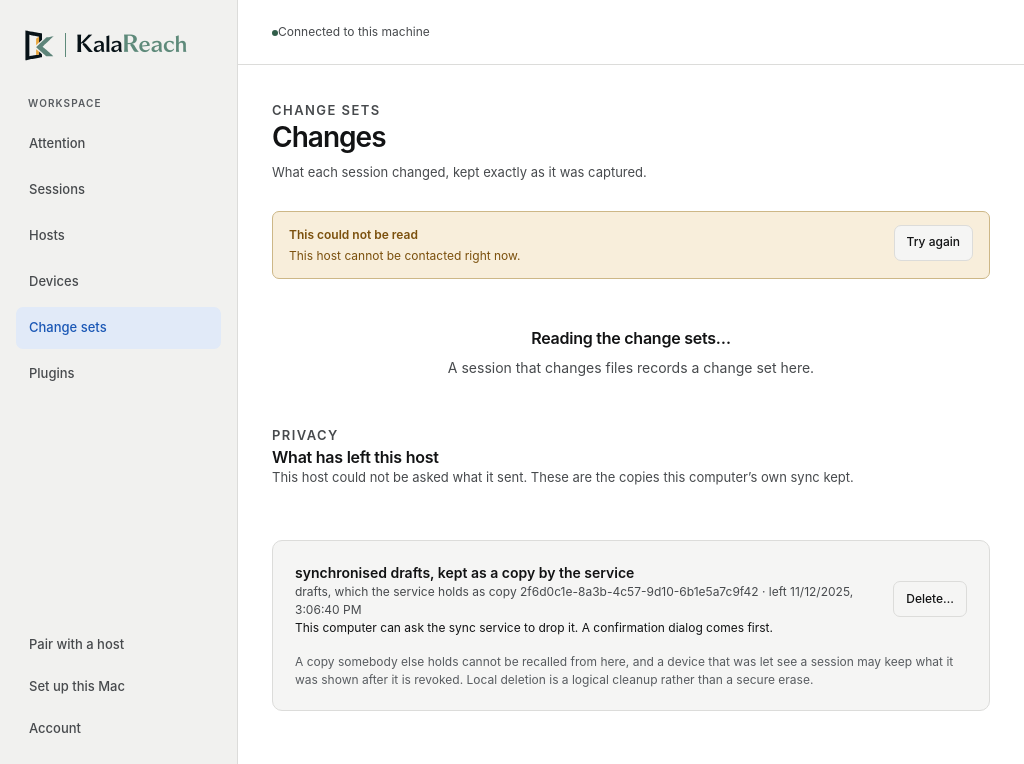
Test: change sets show their newest read › lets a retry give way to a later one
Expected: the text "This could not be read" is shown, left=289, top=227, right=418, bottom=242
Click the button "Try again" at (933,243), box left=894, top=225, right=973, bottom=261
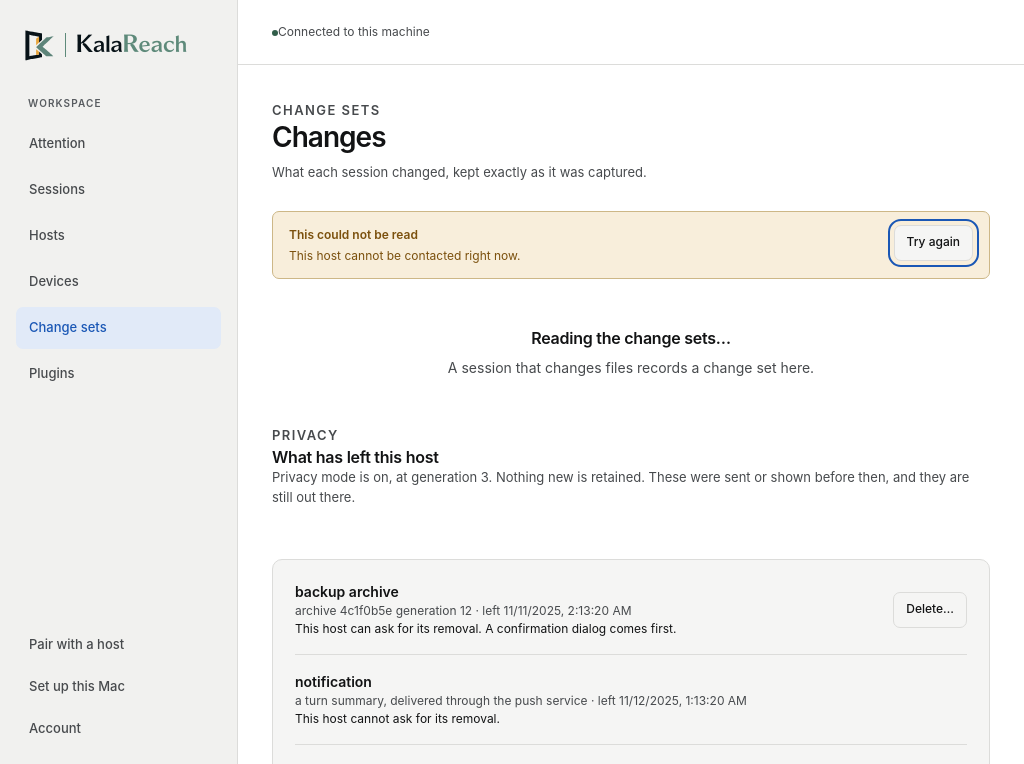
Click the button "Try again" at (933,243), box left=894, top=225, right=973, bottom=261
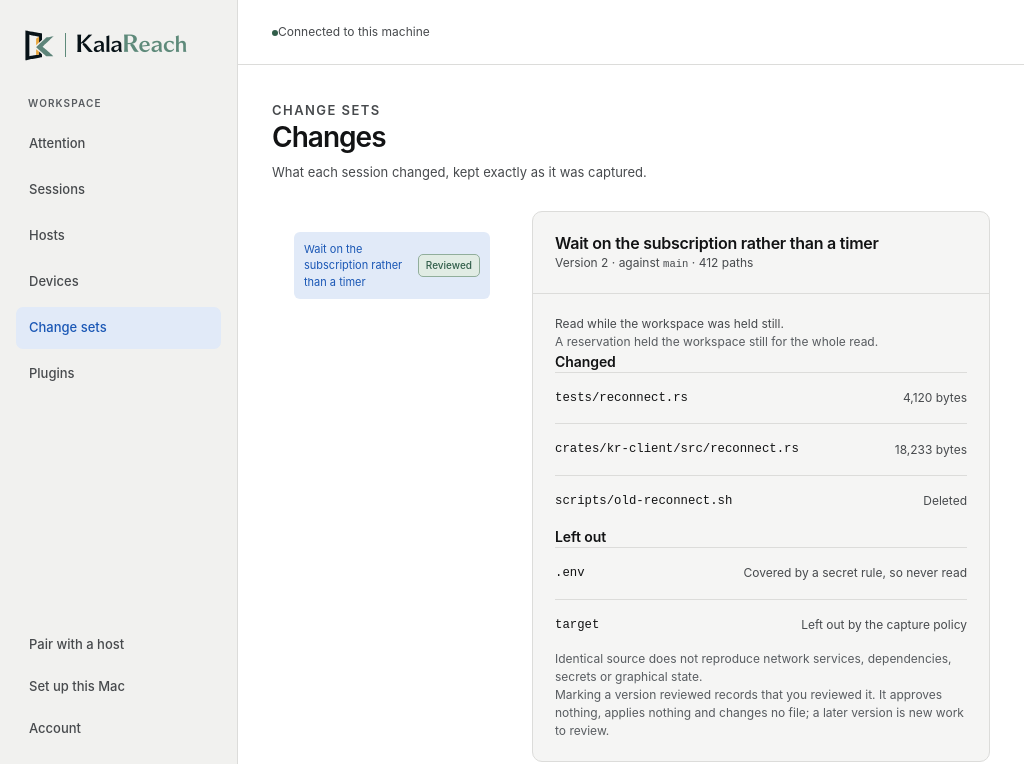
Expected: the text "This could not be read" is gone
